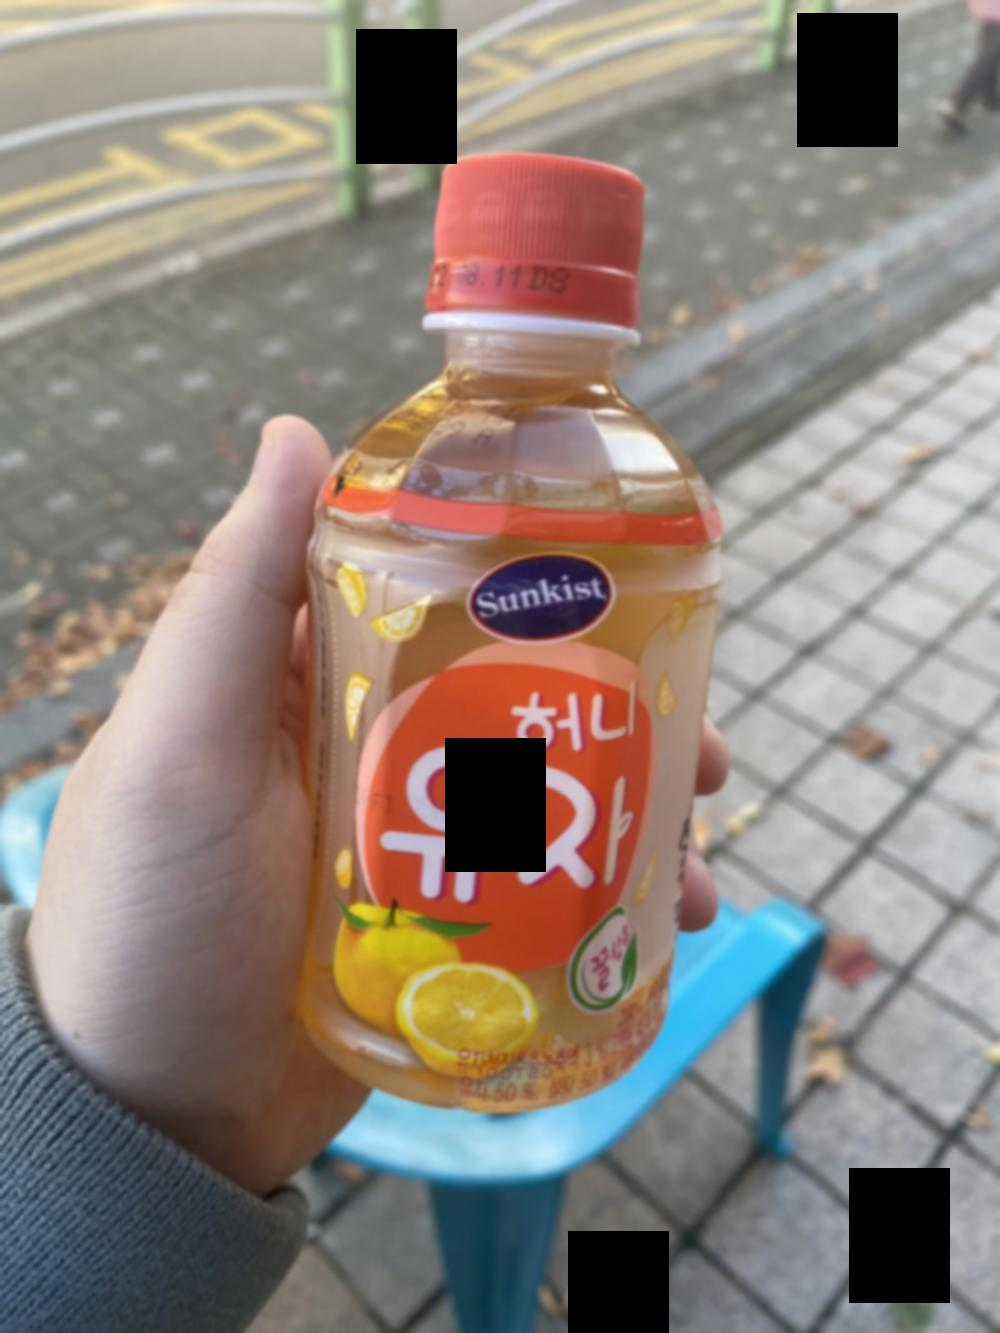honeyyuja: (308, 141, 709, 1113)
